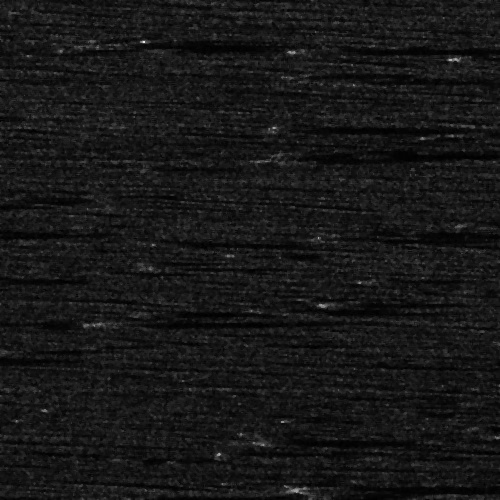object: (247, 439, 278, 442)
shadow: (0, 274, 79, 281), (263, 439, 400, 442), (73, 497, 199, 498)
